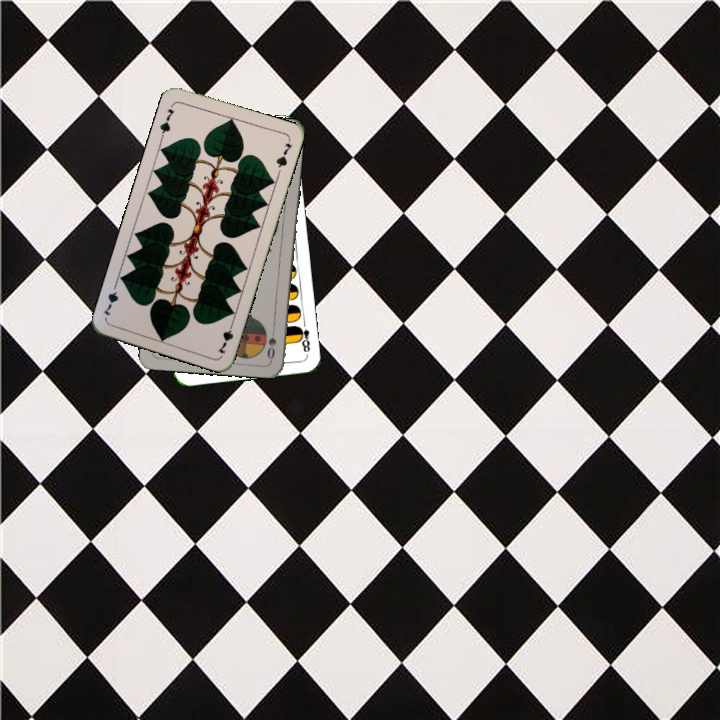E8: (293, 317, 313, 354)
G7: (214, 317, 237, 356), (156, 100, 177, 140)
SO: (263, 321, 279, 362)
